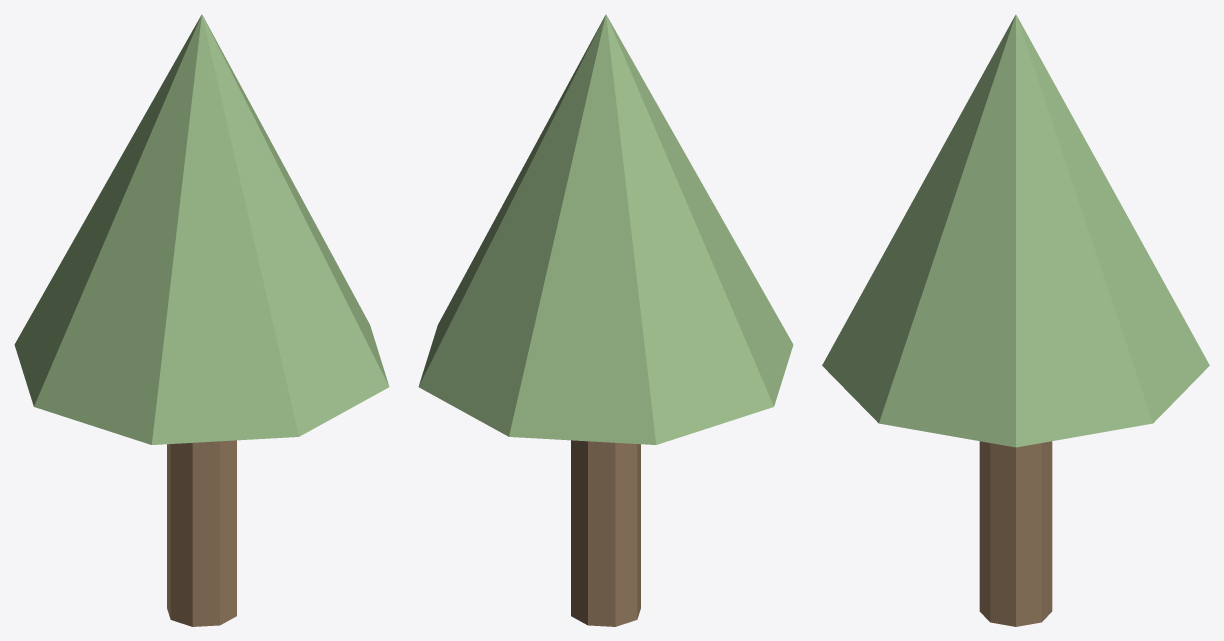
Rendered from tree.glb.
3 renders of one model, left to right at view 1: azimuth 30°, elevation 25°; view 2: azimuth 150°, elevation 25°; view 3: azimuth 270°, elevation 25°, orthographic.
Parts seen in each view (by area): view 1: tree_foliage, tree; view 2: tree_foliage, tree; view 3: tree_foliage, tree.
Part boxes in pixels (x1,y1,x2,y2): tree_foliage: (14, 14, 389, 444); tree: (167, 440, 236, 626); tree_foliage: (418, 14, 793, 444); tree: (571, 440, 640, 626); tree_foliage: (822, 14, 1209, 447); tree: (979, 441, 1052, 626).
Bounding box in the file's own units: 1.5 × 2.55 × 1.5.
